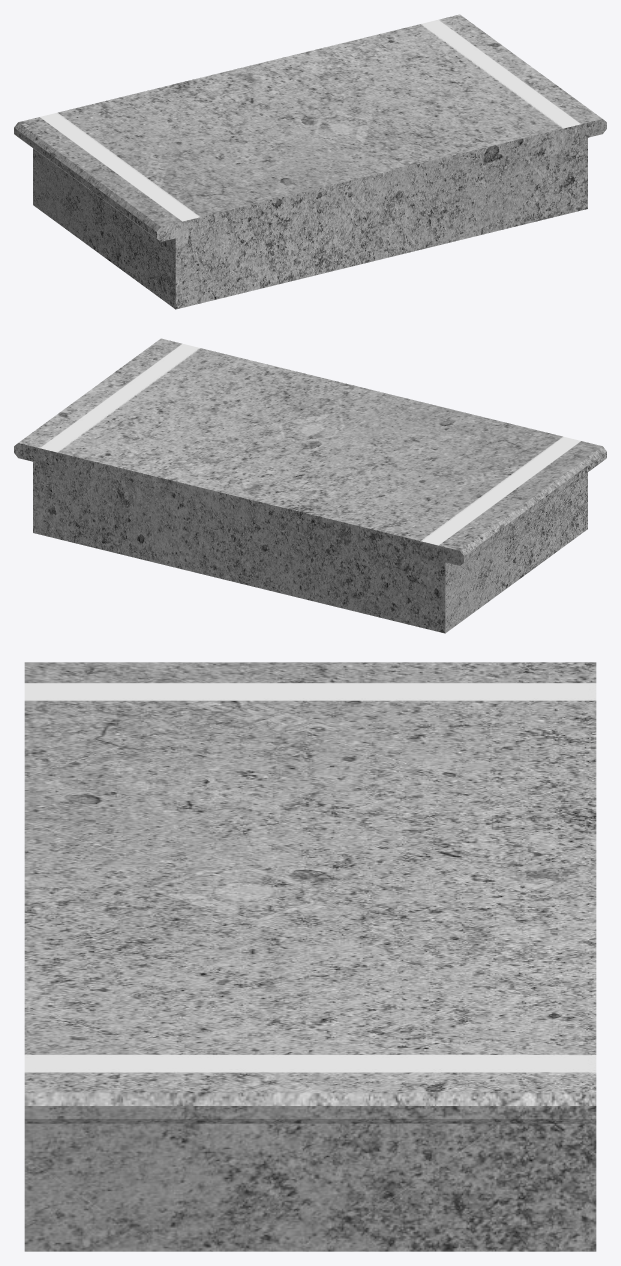
The model's file is PlatformGround1.FBX.
3 renders of one model, top to bottom at view 1: azimuth 30°, elevation 25°; view 2: azimuth 150°, elevation 25°; view 3: azimuth 270°, elevation 25°, orthographic. The views are drawn at different scales.
Parts seen in each view (by area): view 1: PlatformGround1; view 2: PlatformGround1; view 3: PlatformGround1.
Part boxes in pixels (x1,y1,x2,y2): PlatformGround1: (14,14,606,309); PlatformGround1: (14,338,606,633); PlatformGround1: (24,662,596,1251).
Bounding box in the file's own units: 10914 × 6000 × 2000.
Materials: 1 (1 with a texture image).
